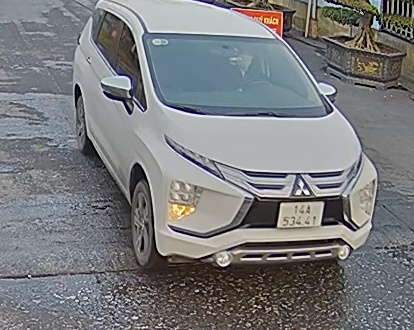vehicle plate: (278, 198, 326, 229)
